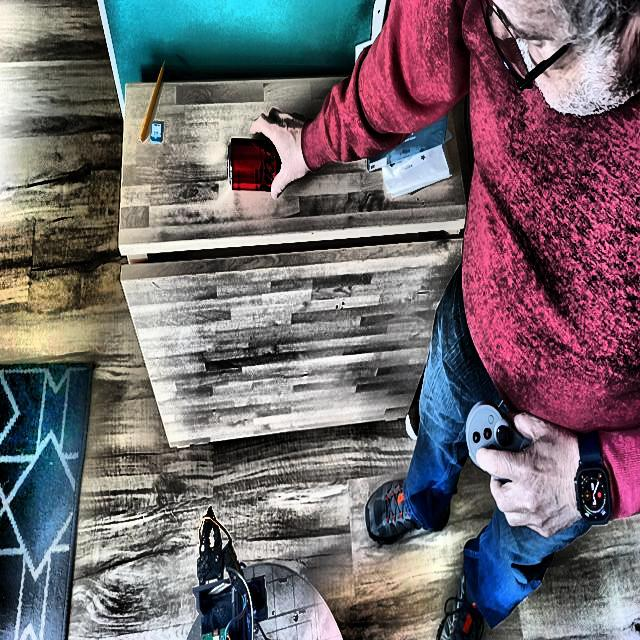CokeZero-can: (226, 136, 302, 194)
